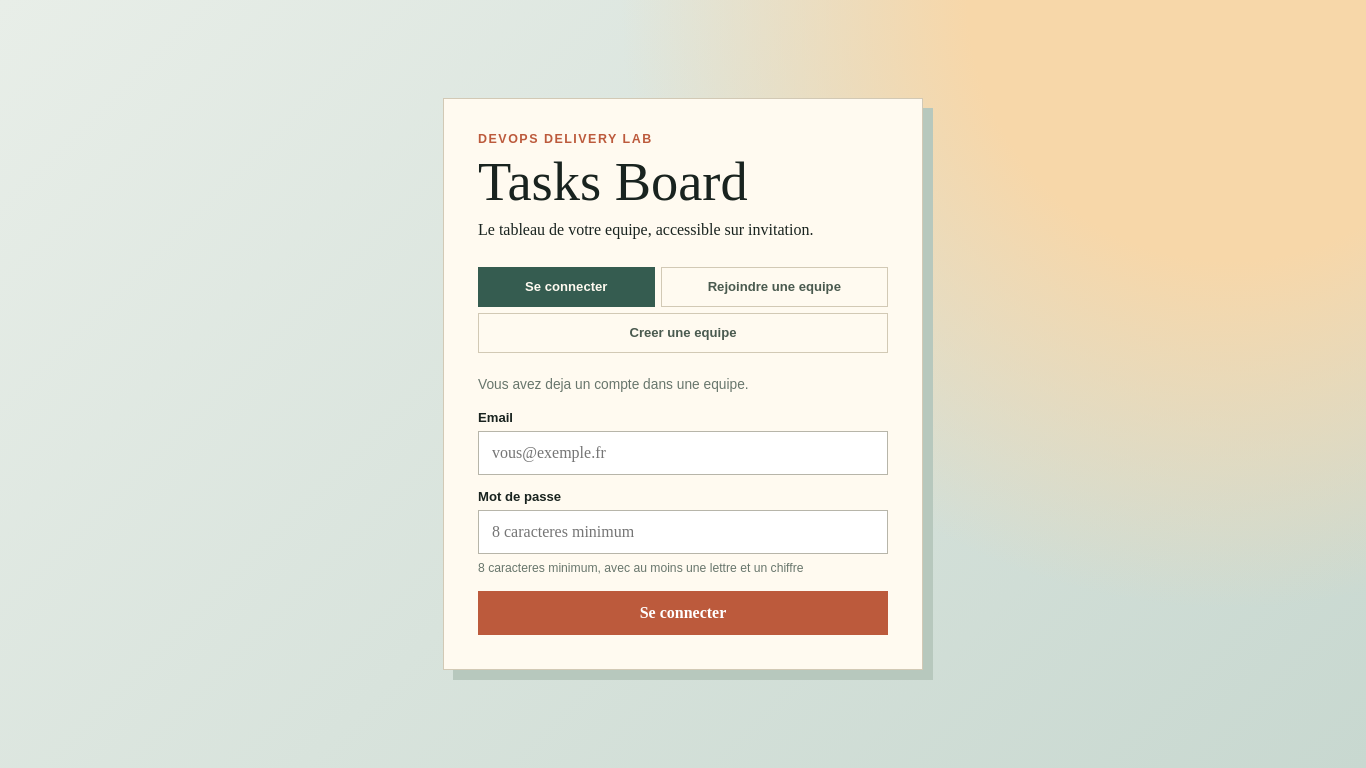
Sans session › propose les trois parcours et demande un code pour rejoindre
Click the tab "Rejoindre une equipe".
click(774, 287)  # box top-left (660, 267), bottom-right (888, 307)
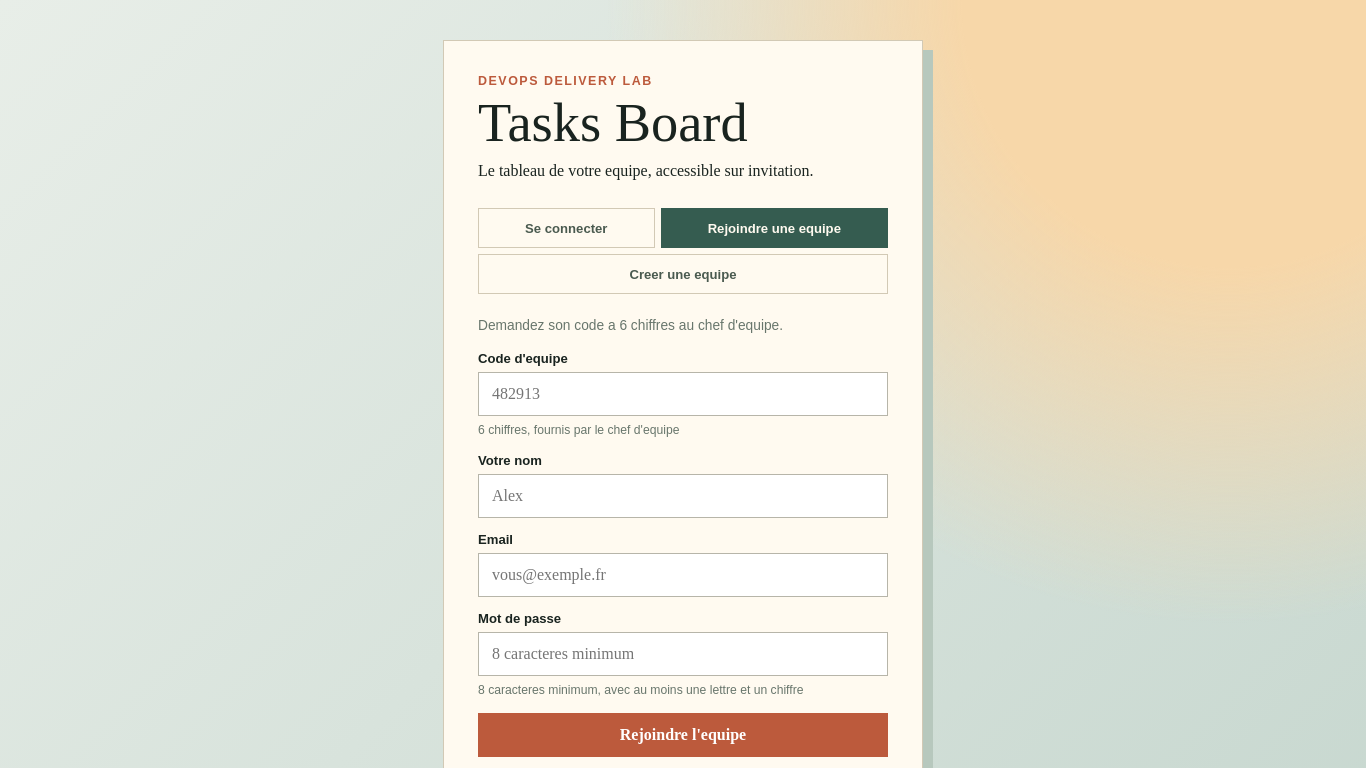
expect the field labelled "Code d'equipe" is shown: met, box top-left (478, 372), bottom-right (888, 416)
Click the tab "Creer une equipe".
click(683, 274)  # box top-left (478, 254), bottom-right (888, 294)
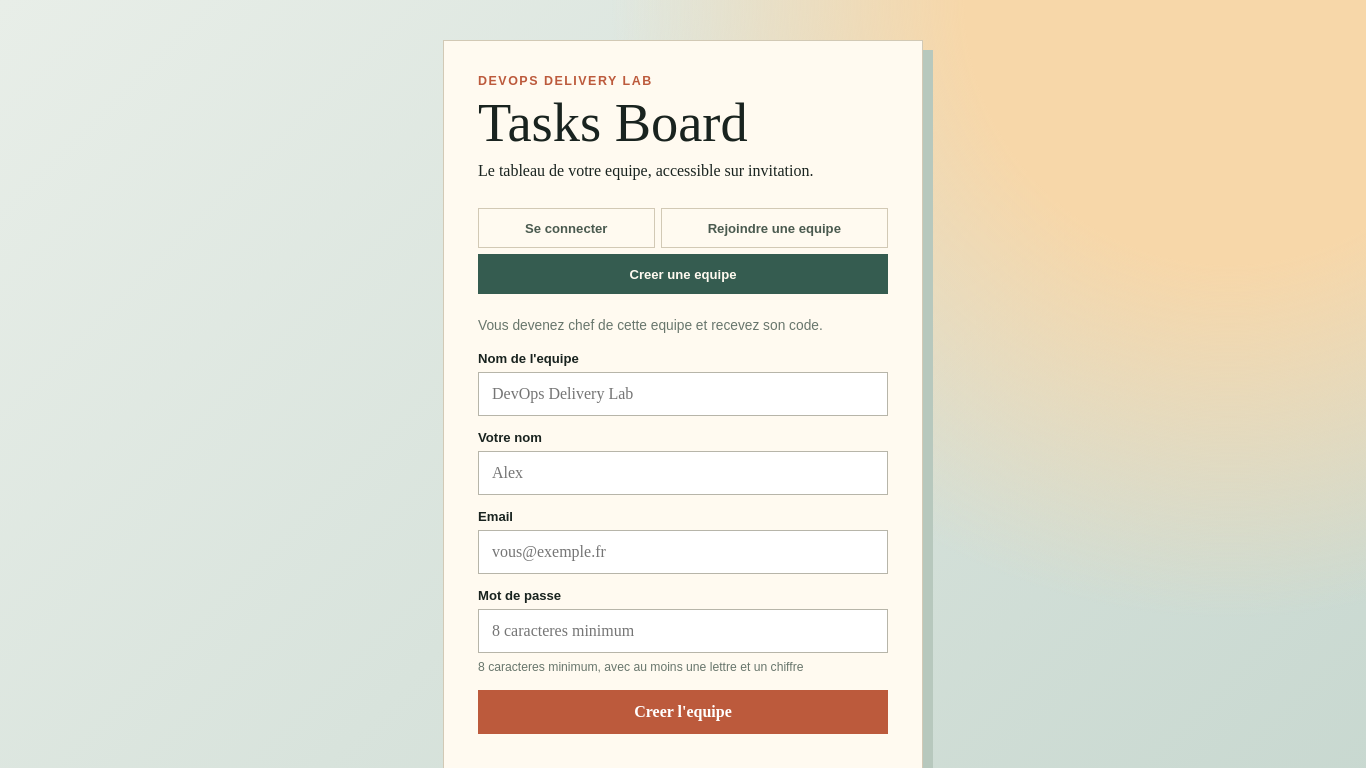
expect the field labelled "Nom de l'equipe" is shown: met, box top-left (478, 372), bottom-right (888, 416)
